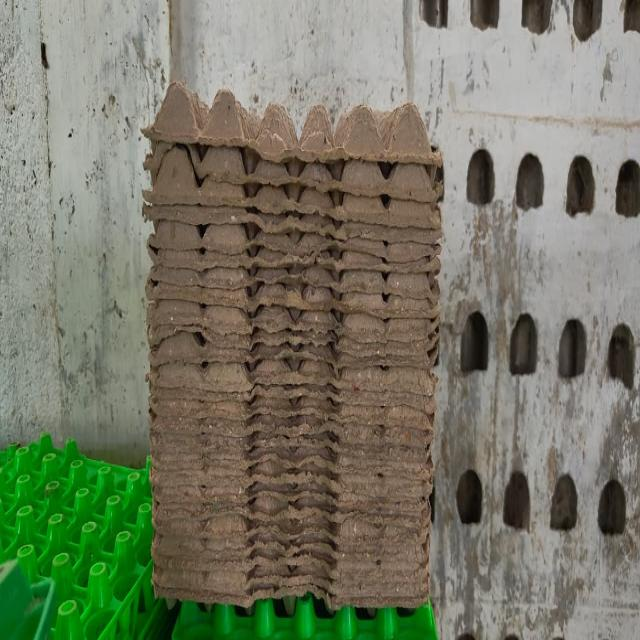egg_tray: (0, 435, 152, 637), (125, 616, 137, 629)
